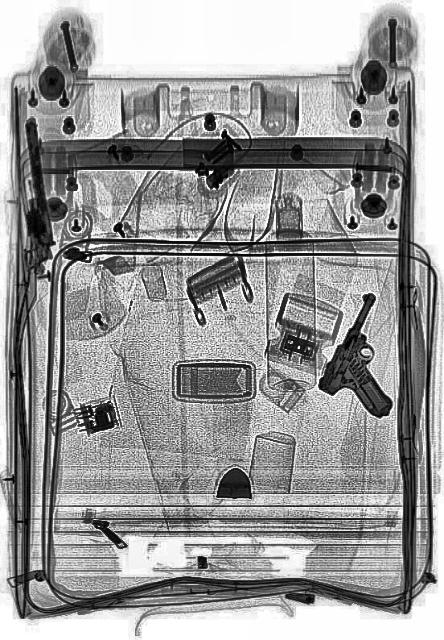Gun: (314, 286, 428, 440), (20, 113, 53, 250)
